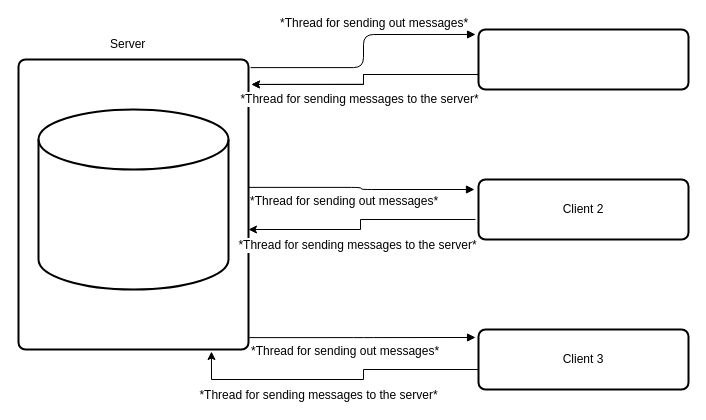
Image size: 706x420. Some labels were removed from this diagram. The box of each missing label's shape, as (x1, y1, x2, y2) in pixels:
Client 1: (477, 28, 689, 90)
user_list message_list thread_list: (37, 108, 229, 290)
